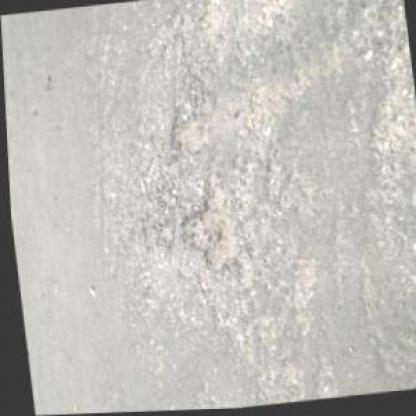pothole: (173, 189, 236, 280), (168, 116, 209, 161)
